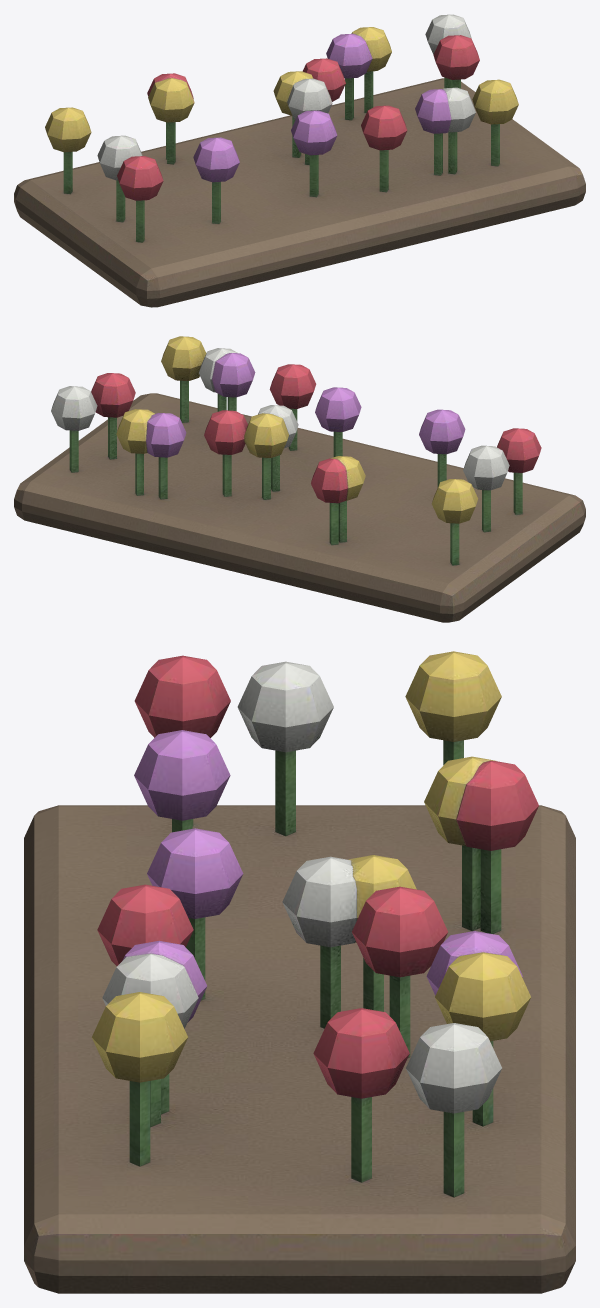
The model's file is p_blumen.glb.
The picture shows the model from 3 angles, top to bottom: view 1: azimuth 30°, elevation 25°; view 2: azimuth 150°, elevation 25°; view 3: azimuth 270°, elevation 25°; orthographic projection. The views are drawn at different scales.
Parts seen in each view (by area): view 1: p_blumen; view 2: p_blumen; view 3: p_blumen.
Boxes of the visible parts, box(x1,y1,x2,y2) form: p_blumen: box(14, 14, 585, 307); p_blumen: box(14, 336, 585, 622); p_blumen: box(24, 651, 575, 1293).
Size of the model in its own units: 0.3 by 0.079 by 0.16.
1 material, 1 textured.
